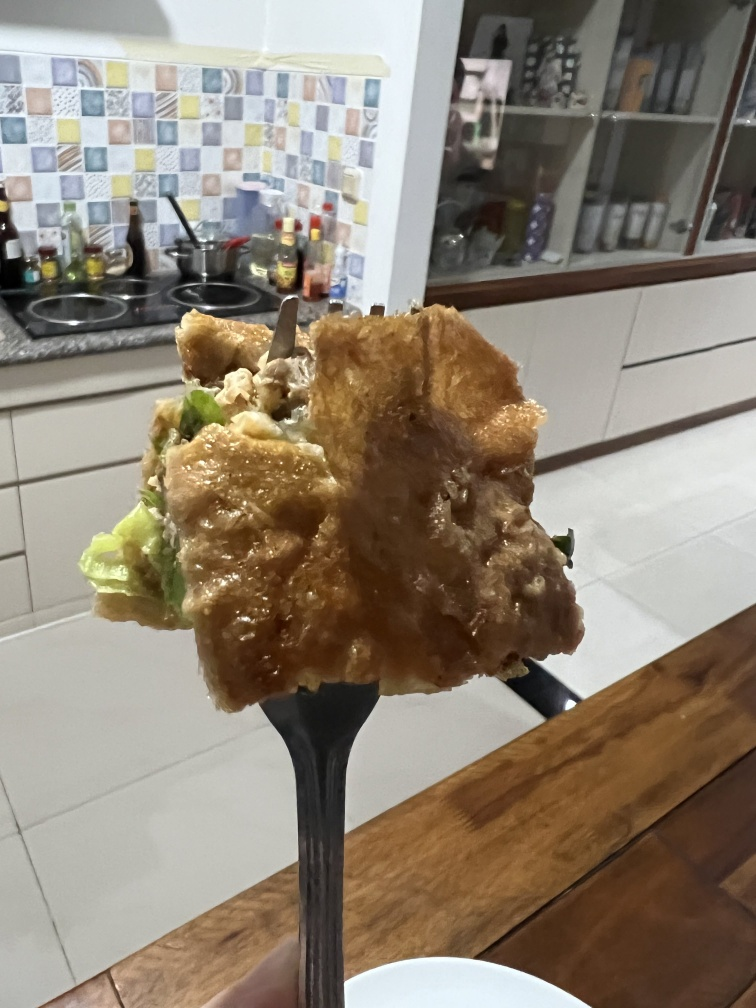martabak telor: (118, 254, 585, 711)
